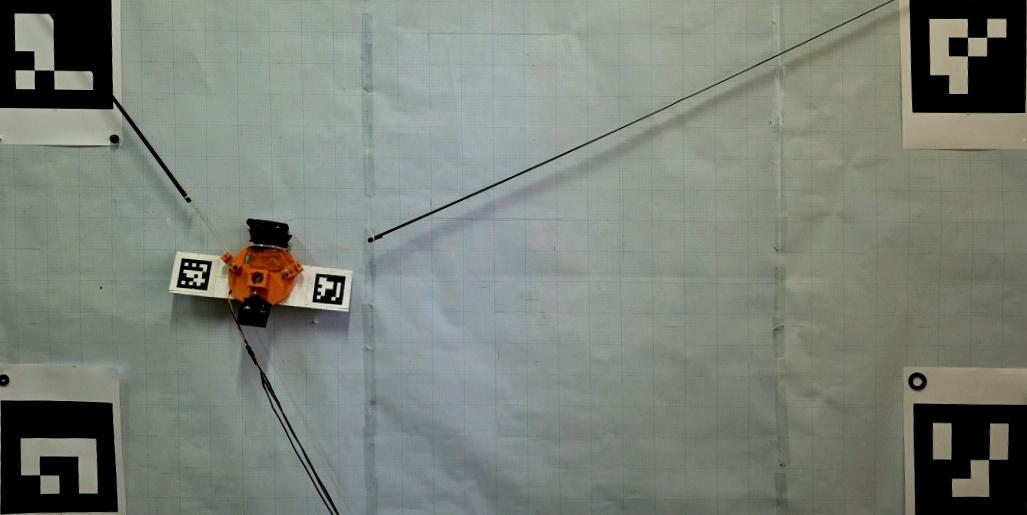robot: (221, 220, 303, 327)
